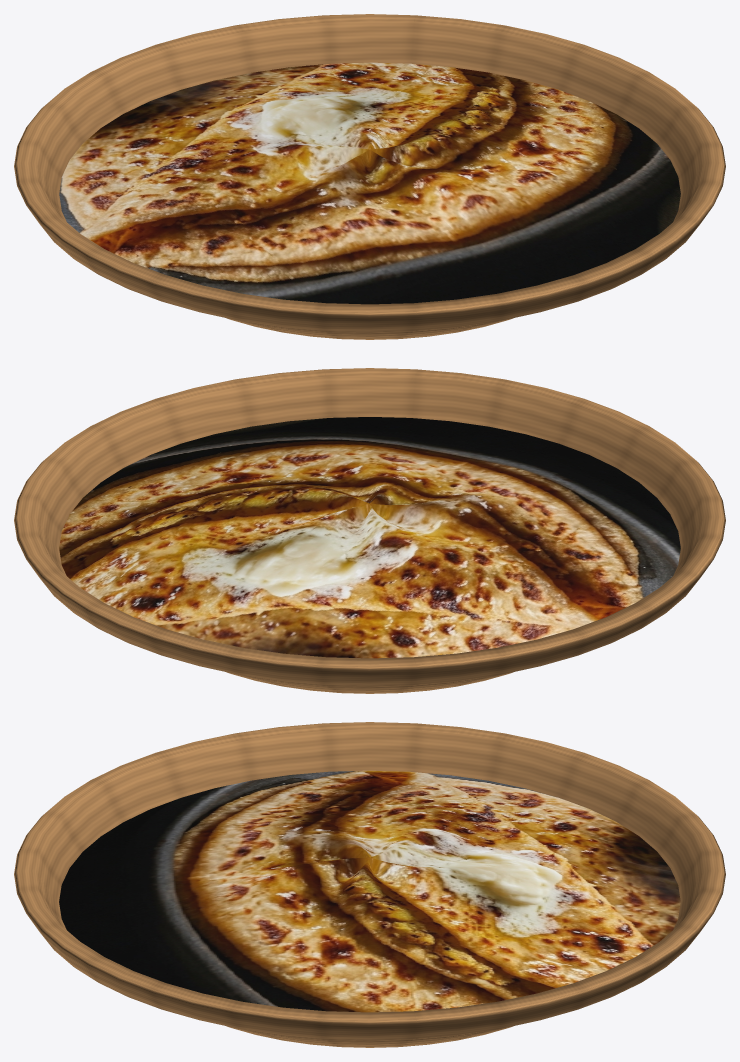
The model's file is aloo-paratha.glb.
3 views of the same model, one above another, from view 1: azimuth 30°, elevation 25°; view 2: azimuth 150°, elevation 25°; view 3: azimuth 270°, elevation 25° (orthographic).
Parts seen in each view (by area): view 1: FoodMound, BambooBowl; view 2: FoodMound, BambooBowl; view 3: FoodMound, BambooBowl.
Part boxes in pixels (<box>): FoodMound: <box>59,62,680,304</box>; BambooBowl: <box>14,14,725,339</box>; FoodMound: <box>59,417,680,658</box>; BambooBowl: <box>14,368,725,693</box>; FoodMound: <box>59,770,680,1012</box>; BambooBowl: <box>14,722,725,1047</box>.
Size of the model in its own units: 0.24 by 0.037 by 0.24.
2 materials, 2 textured.
